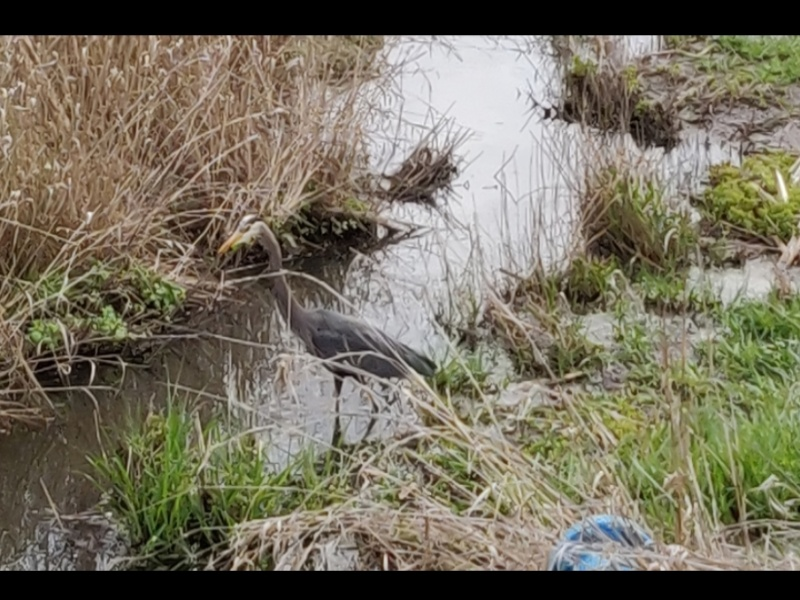heron: (217, 213, 438, 432)
